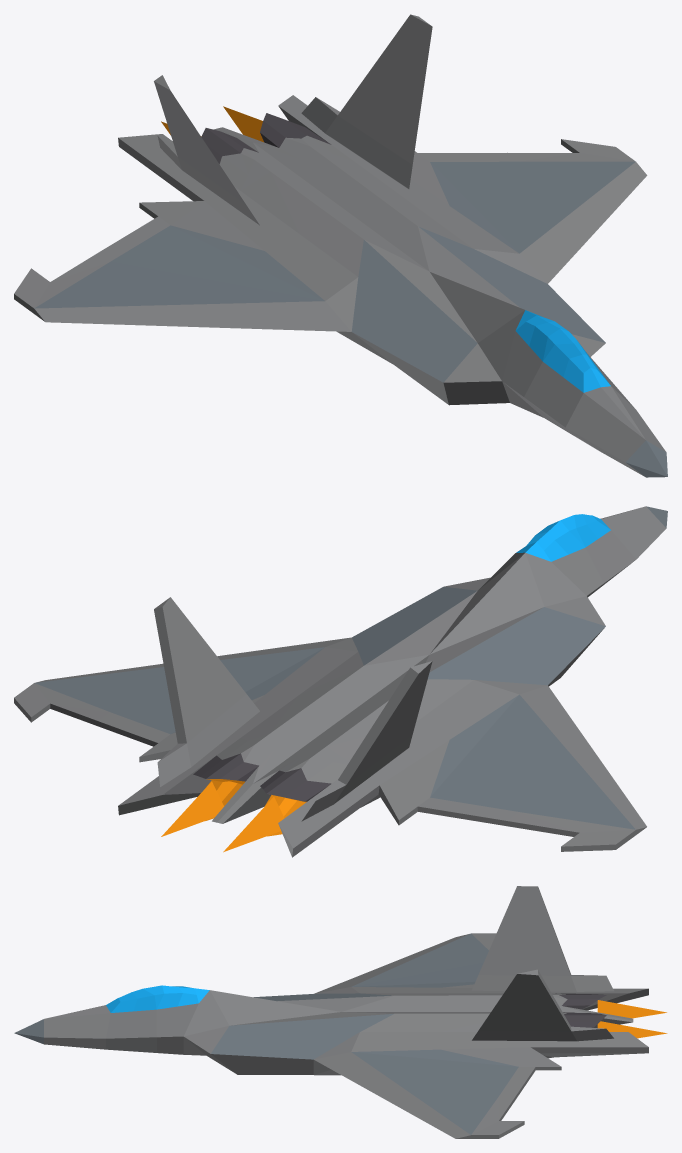
3 renders of one model, top to bottom at view 1: azimuth 30°, elevation 25°; view 2: azimuth 150°, elevation 25°; view 3: azimuth 270°, elevation 25°, orthographic. The views are drawn at different scales.
Parts seen in each view (by area): view 1: 0_Body, 1_BodyContrast, 2_Cockpit, 6_EngineExterior, 5_Intake, 6_FireCone; view 2: 0_Body, 1_BodyContrast, 6_EngineExterior, 2_Cockpit, 6_FireCone, 5_EngineInterior; view 3: 0_Body, 1_BodyContrast, 2_Cockpit, 6_FireCone, 6_EngineExterior.
Part boxes in pixels (bbox=[...]): 0_Body: bbox=[14, 14, 665, 476]; 1_BodyContrast: bbox=[34, 161, 667, 477]; 2_Cockpit: bbox=[515, 310, 610, 392]; 6_EngineExterior: bbox=[201, 113, 331, 163]; 5_Intake: bbox=[443, 381, 509, 405]; 6_FireCone: bbox=[161, 106, 263, 142]; 0_Body: bbox=[14, 506, 666, 857]; 1_BodyContrast: bbox=[35, 506, 667, 829]; 6_EngineExterior: bbox=[193, 753, 331, 801]; 2_Cockpit: bbox=[516, 514, 610, 561]; 6_FireCone: bbox=[161, 781, 284, 852]; 5_EngineInterior: bbox=[206, 779, 306, 836]; 0_Body: bbox=[44, 886, 648, 1138]; 1_BodyContrast: bbox=[14, 933, 518, 1134]; 2_Cockpit: bbox=[106, 985, 209, 1012]; 6_FireCone: bbox=[597, 1000, 667, 1038]; 6_EngineExterior: bbox=[555, 993, 606, 1027].
Bounding box in the file's own units: 13.57 × 4.03 × 18.6.
